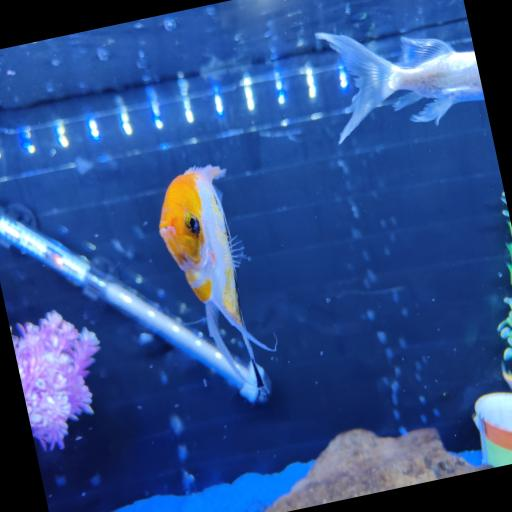Fish: (159, 166, 274, 398), (315, 33, 484, 143), (501, 364, 511, 389)
